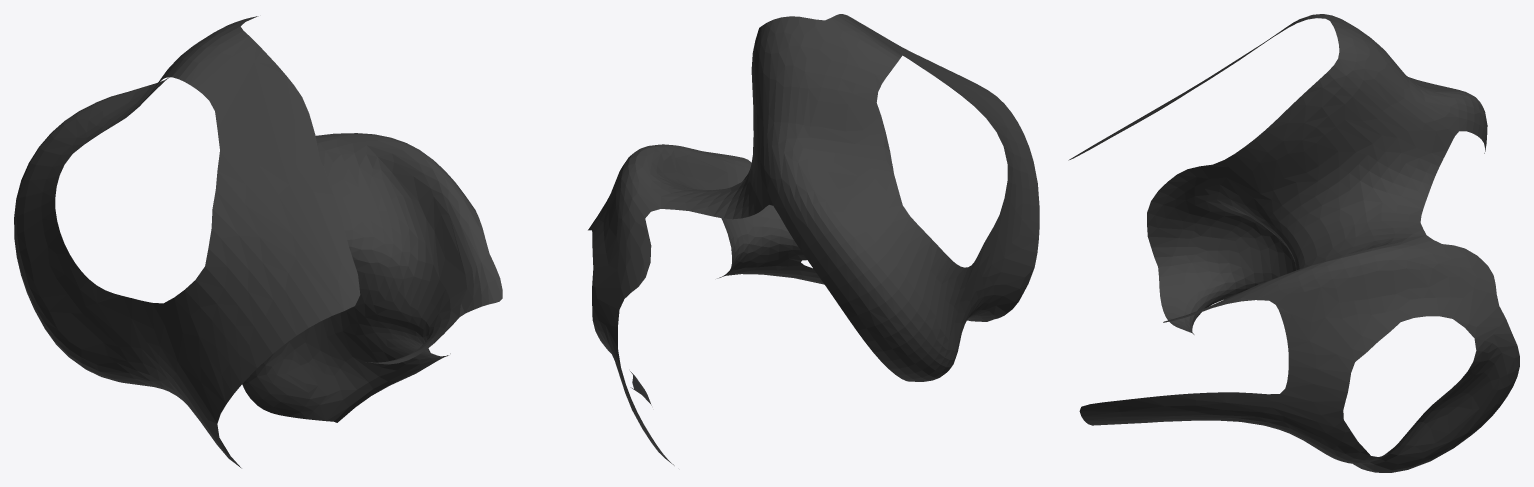
The model's file is Humerus_condyle.glb.
The picture shows the model from 3 angles, left to right: view 1: azimuth 30°, elevation 25°; view 2: azimuth 150°, elevation 25°; view 3: azimuth 270°, elevation 25°; orthographic projection. The views are drawn at different scales.
Parts seen in each view (by area): view 1: Humerus_condyle; view 2: Humerus_condyle; view 3: Humerus_condyle.
Boxes of the visible parts, x1,y1,x2,y2 form: Humerus_condyle: (14,16,502,468); Humerus_condyle: (588,14,1039,465); Humerus_condyle: (1068,14,1519,472).
Size of the model in its own units: 0.4136 by 0.4506 by 0.4473.
Materials: 1 (1 with a texture image).
